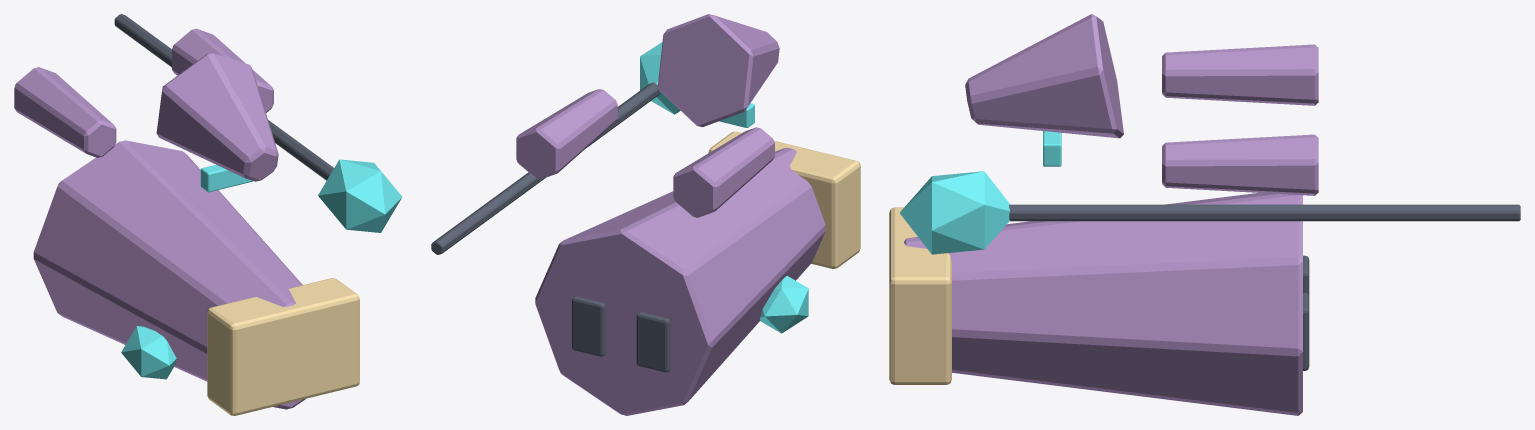
The model's file is Enemy_ArcaneAlchemist.fbx.
3 views of the same model, side by side, from view 1: azimuth 30°, elevation 25°; view 2: azimuth 150°, elevation 25°; view 3: azimuth 270°, elevation 25° (orthographic). The views are drawn at different scales.
Parts seen in each view (by area): view 1: Robe, Mantle, Hood, LeftSleeve, StaffOrb, StaffRod, BeltFlask, RightSleeve, AlchEyes; view 2: Robe, Hood, Mantle, LeftSleeve, RightSleeve, StaffRod, BeltFlask, LeftFoot, RightFoot, StaffOrb, AlchEyes; view 3: Robe, Hood, Mantle, StaffRod, LeftSleeve, RightSleeve, StaffOrb, AlchEyes.
Part boxes in pixels (box(x1,y1,x2,y2)): Robe: box(33, 140, 305, 409); Mantle: box(207, 278, 359, 415); Hood: box(156, 53, 278, 181); LeftSleeve: box(14, 67, 116, 157); StaffOrb: box(318, 159, 402, 232); StaffRod: box(114, 14, 333, 180); BeltFlask: box(121, 326, 176, 379); RightSleeve: box(172, 28, 273, 112); AlchEyes: box(200, 164, 253, 192); Robe: box(535, 147, 825, 415); Hood: box(658, 14, 779, 127); Mantle: box(708, 131, 860, 268); LeftSleeve: box(673, 127, 774, 217); RightSleeve: box(516, 89, 617, 179); StaffRod: box(431, 82, 660, 254); BeltFlask: box(760, 276, 808, 333); LeftFoot: box(636, 312, 670, 372); RightFoot: box(572, 296, 605, 356); StaffOrb: box(640, 42, 680, 114); AlchEyes: box(719, 103, 754, 127); Robe: box(904, 193, 1302, 415); Hood: box(965, 14, 1123, 138); Mantle: box(889, 207, 951, 384); StaffRod: box(1009, 204, 1520, 221); LeftSleeve: box(1162, 44, 1318, 105); RightSleeve: box(1162, 134, 1318, 195); StaffOrb: box(900, 171, 1010, 254); AlchEyes: box(1043, 131, 1061, 166).
Size of the model in its own units: 0.9688 by 1.39 by 2.01.
